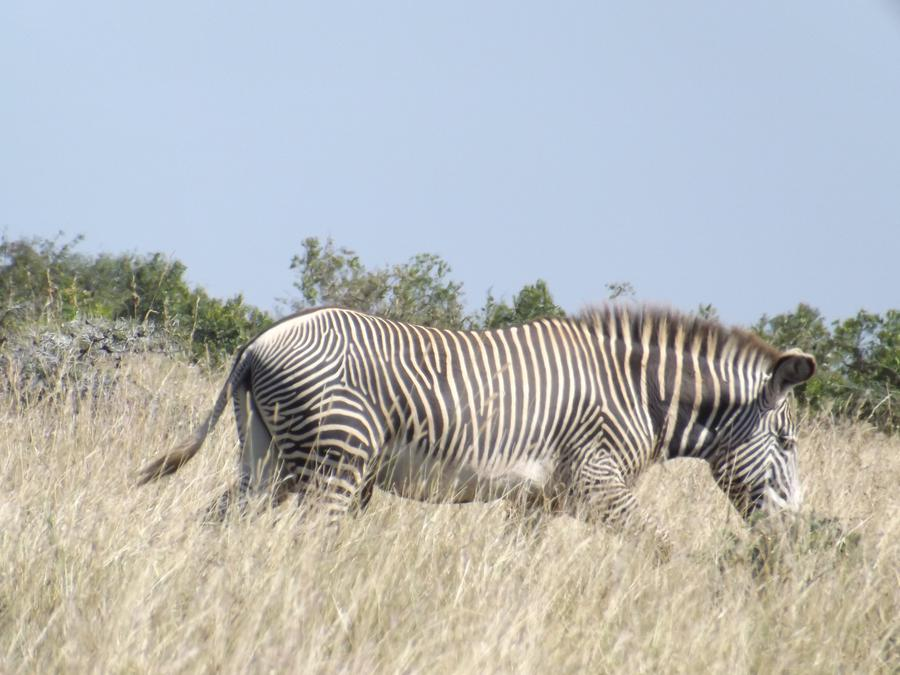zebra_grevys: (232, 292, 653, 504)
